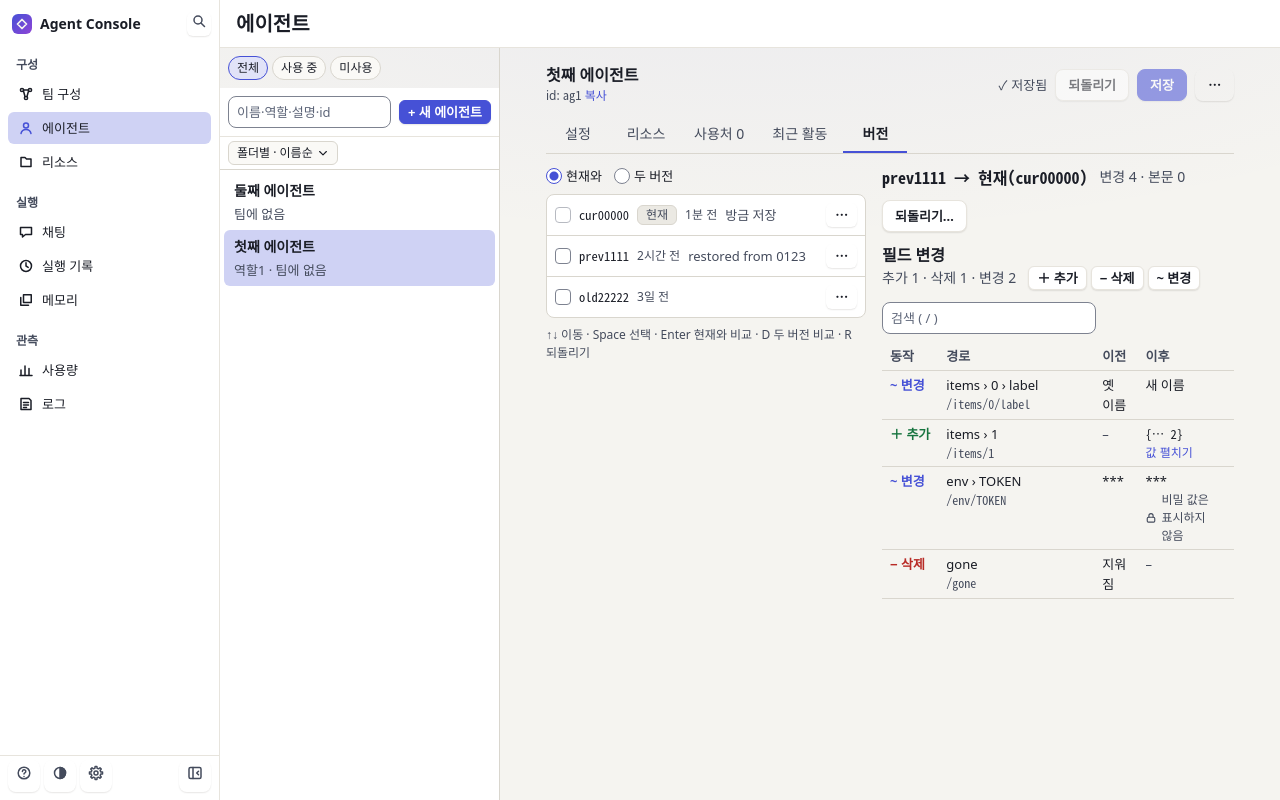
되돌리기 › 422는 다이얼로그를 닫지 않고 서버 이슈 목록(메시지 그대로)과 안내를 보인다
Expected: the list named "버전 목록" is shown, [546,194,866,318]
Step 1. Click the button "되돌리기…" → (924, 216), box [882,200,967,232]
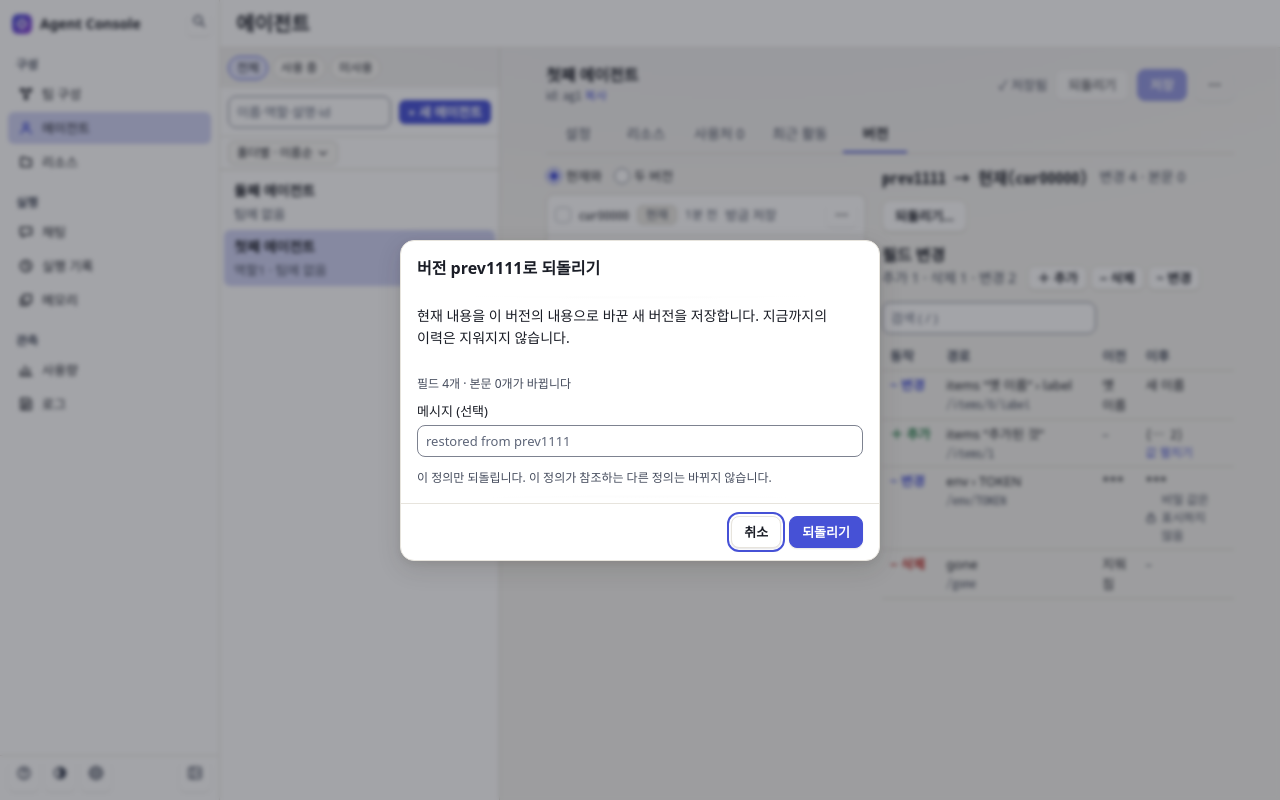
Step 2. Click the button "되돌리기" → (826, 532), box [789,516,863,548]
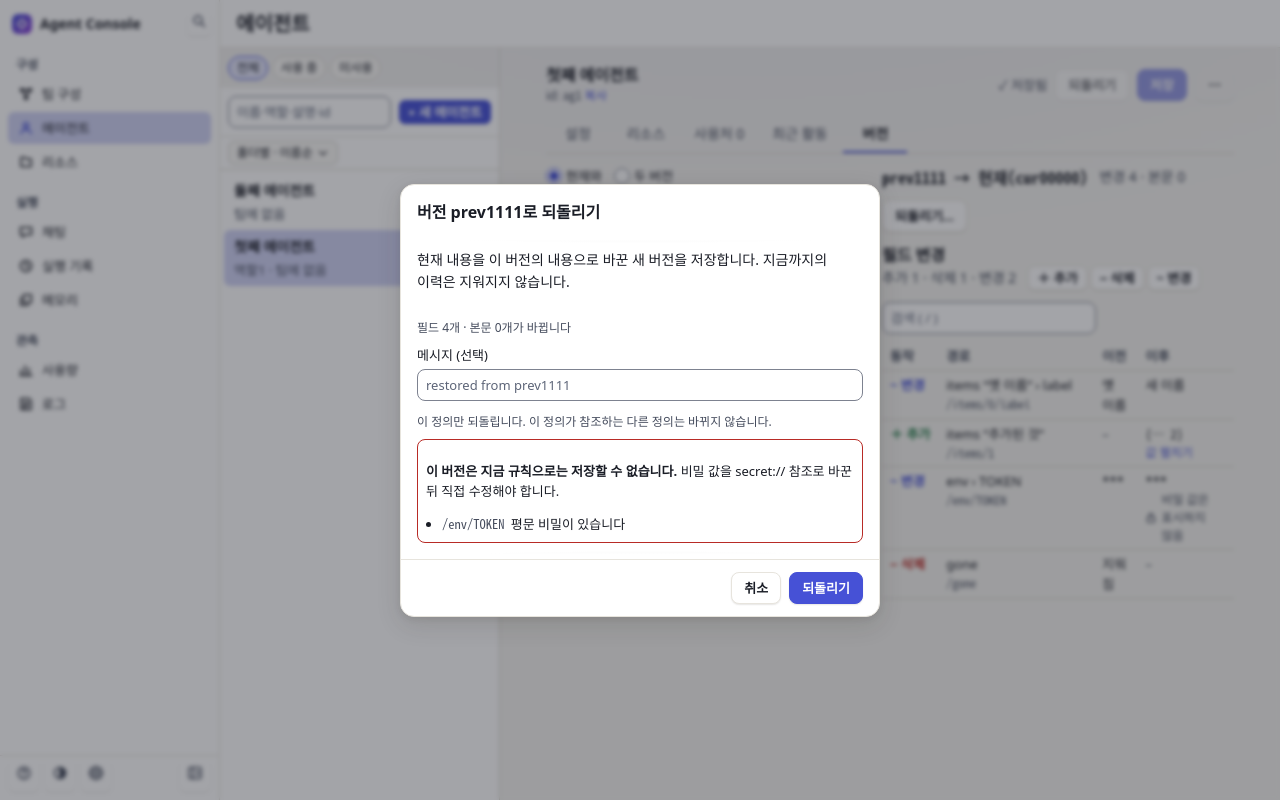
Now the text "평문 비밀이 있습니다" is shown, box [511,514,625,532]
Now the text "/env/TOKEN" is shown, box [442,514,511,532]
Now the text "secret:// 참조로 바꾼 뒤" is shown, box [426,462,852,500]
